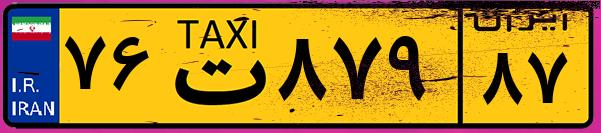6: (110, 28, 158, 98)
7: (330, 28, 385, 110), (57, 26, 110, 100), (525, 38, 570, 115)
8: (270, 28, 330, 110), (475, 38, 525, 113)
9: (385, 28, 445, 110)
ت: (158, 12, 270, 120)
